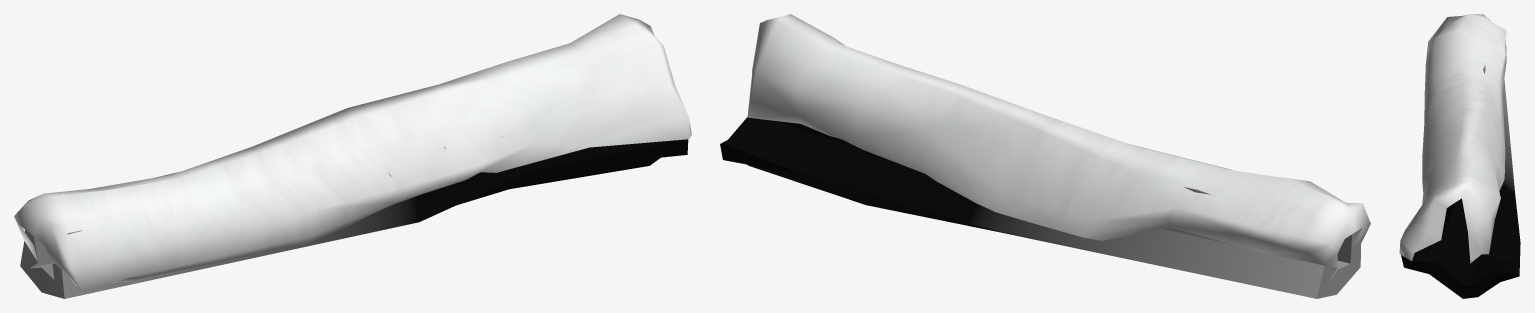
Rendered from SM_DeadTrunk_06.FBX.
3 renders of one model, left to right at view 1: azimuth 30°, elevation 25°; view 2: azimuth 150°, elevation 25°; view 3: azimuth 270°, elevation 25°, orthographic. The views are drawn at different scales.
Parts seen in each view (by area): view 1: SM_DeadTrunk_06; view 2: SM_DeadTrunk_06; view 3: SM_DeadTrunk_06.
Boxes of the visible parts, x1=… form: SM_DeadTrunk_06: x1=14, y1=14, x2=691, y2=298; SM_DeadTrunk_06: x1=720, y1=14, x2=1370, y2=298; SM_DeadTrunk_06: x1=1399, y1=14, x2=1520, y2=298.
Size of the model in its own units: 630 by 153 by 148.
